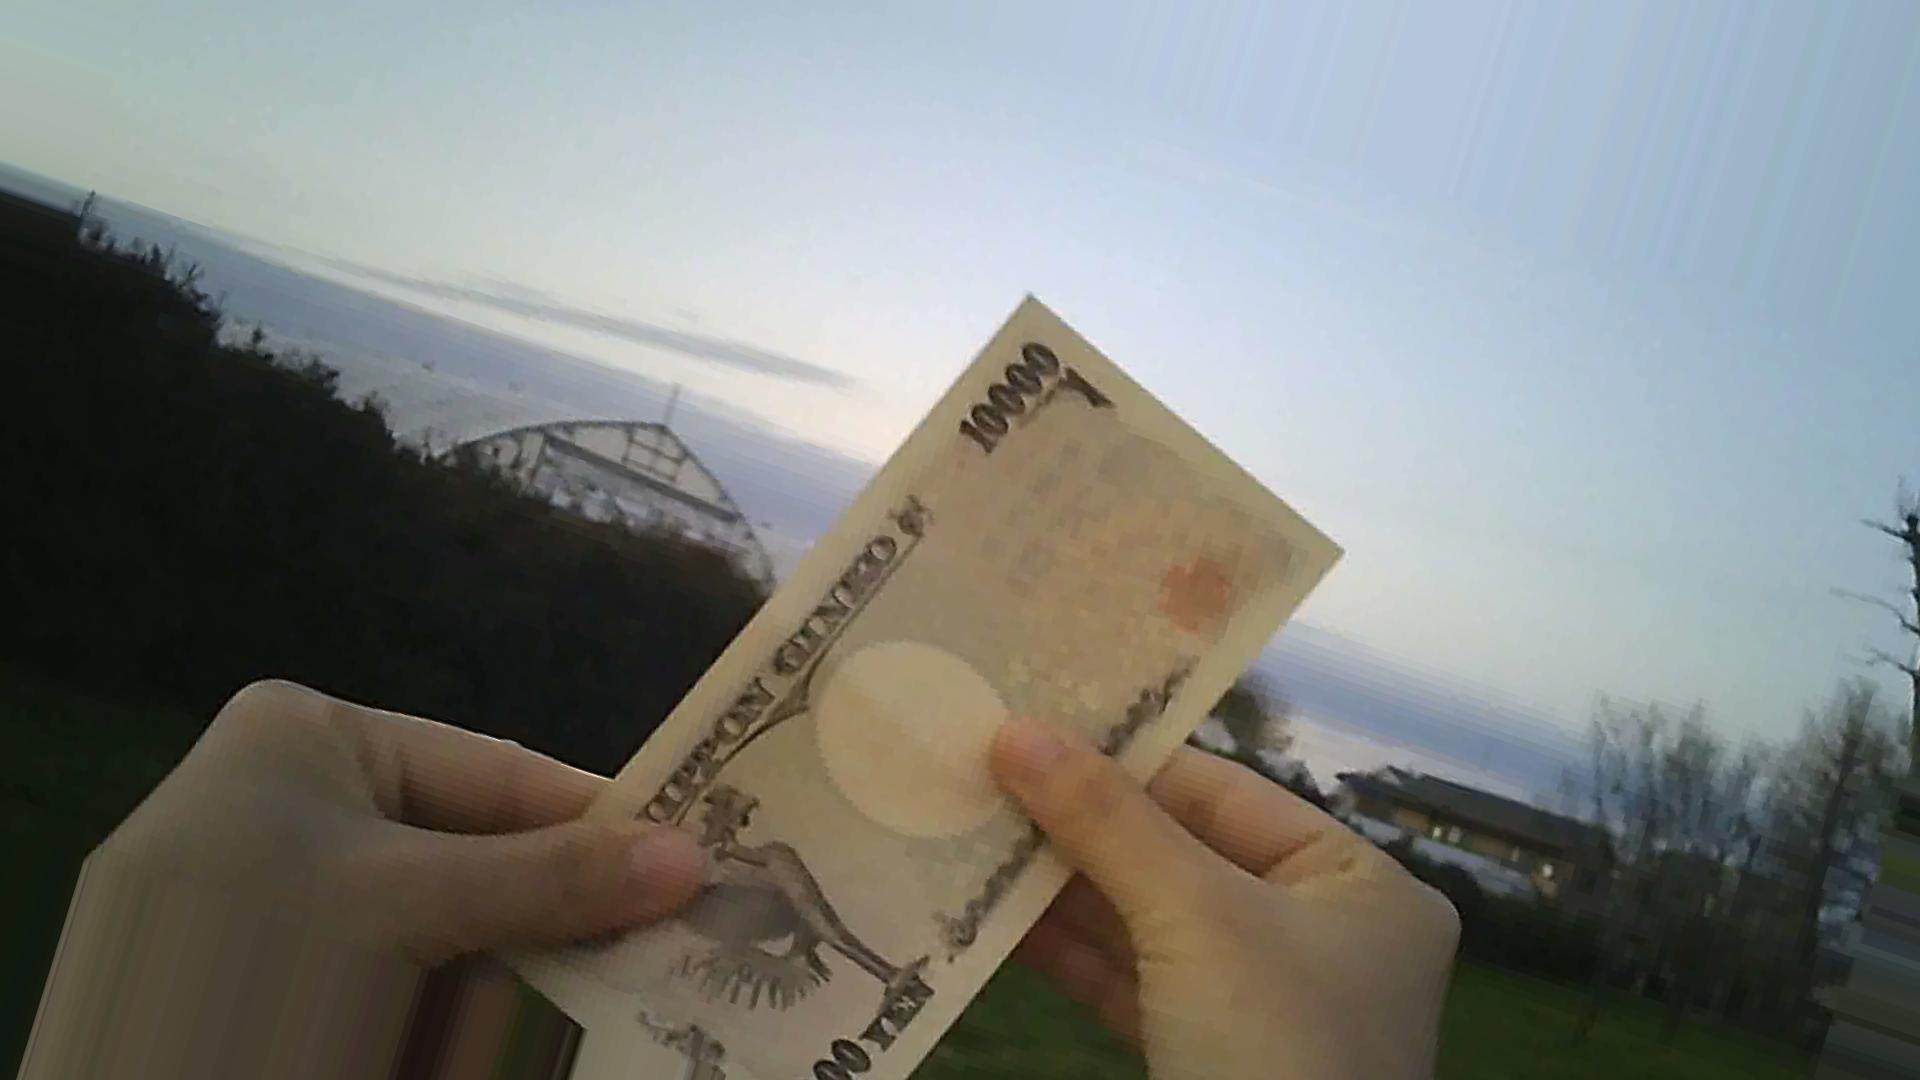10,000 Yen: (425, 276, 1327, 1071)
